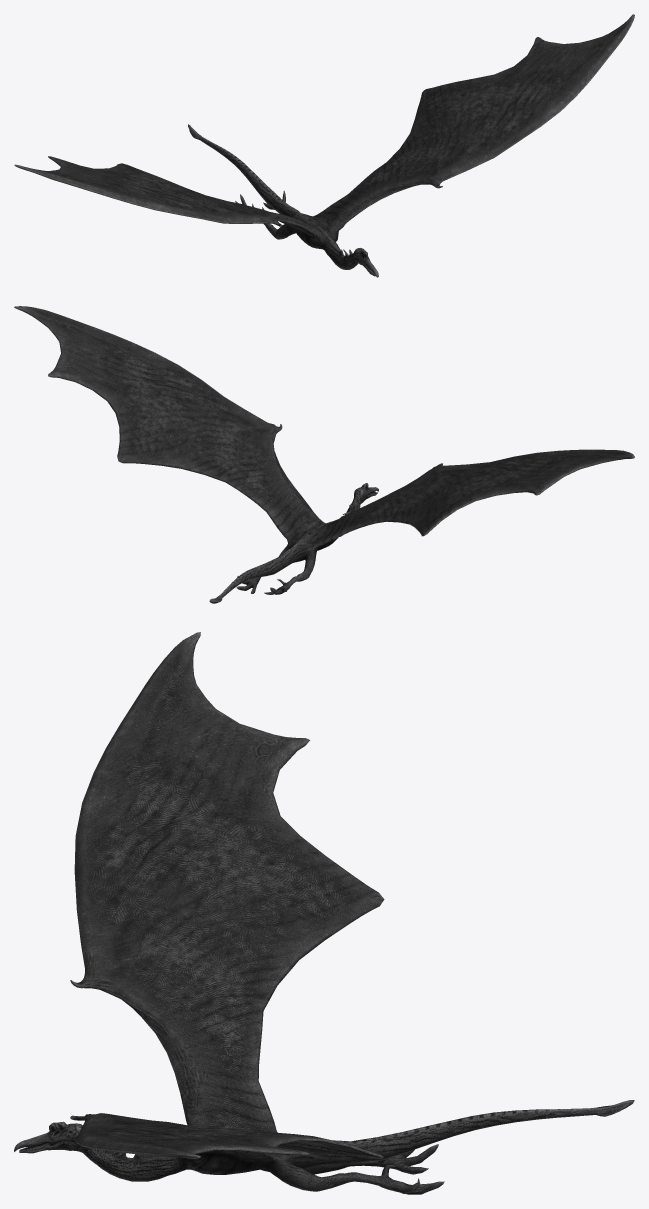
Rendered from Fellbeast_FlyAnim_16.obj.
3 views of the same model, one above another, from view 1: azimuth 30°, elevation 25°; view 2: azimuth 150°, elevation 25°; view 3: azimuth 270°, elevation 25° (orthographic). The views are drawn at different scales.
Visible parts, largest first — view 1: Fellbeast; view 2: Fellbeast; view 3: Fellbeast.
Part boxes in pixels (left/top/right/bottom): Fellbeast: left=14, top=14, right=634, bottom=277; Fellbeast: left=14, top=306, right=634, bottom=603; Fellbeast: left=14, top=632, right=634, bottom=1194.
Size of the model in its own units: 8.7 by 2.28 by 4.35.
